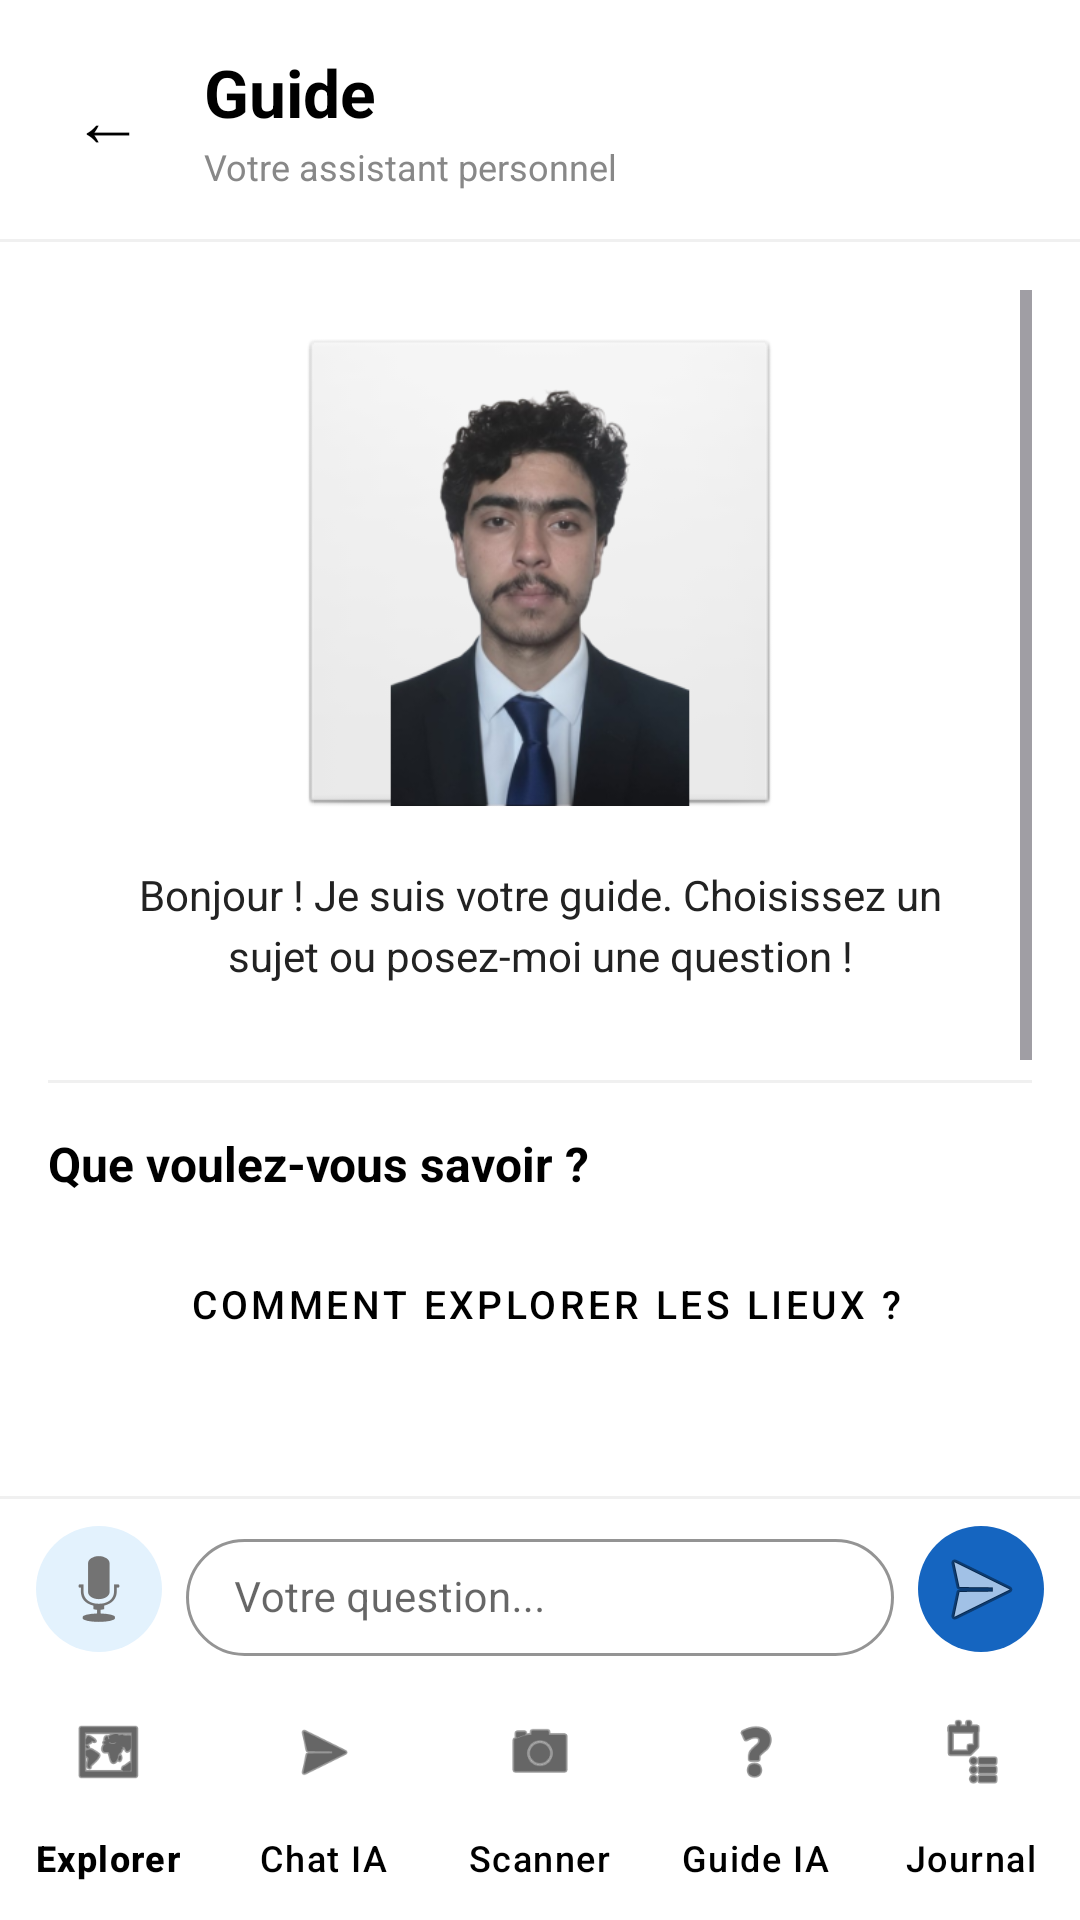

Icons on this 1080 x 1920 Android screen, each with the point to tap as (x=x, y=y):
Envoyer: (x=981, y=1589)
Microphone: (x=99, y=1589)
